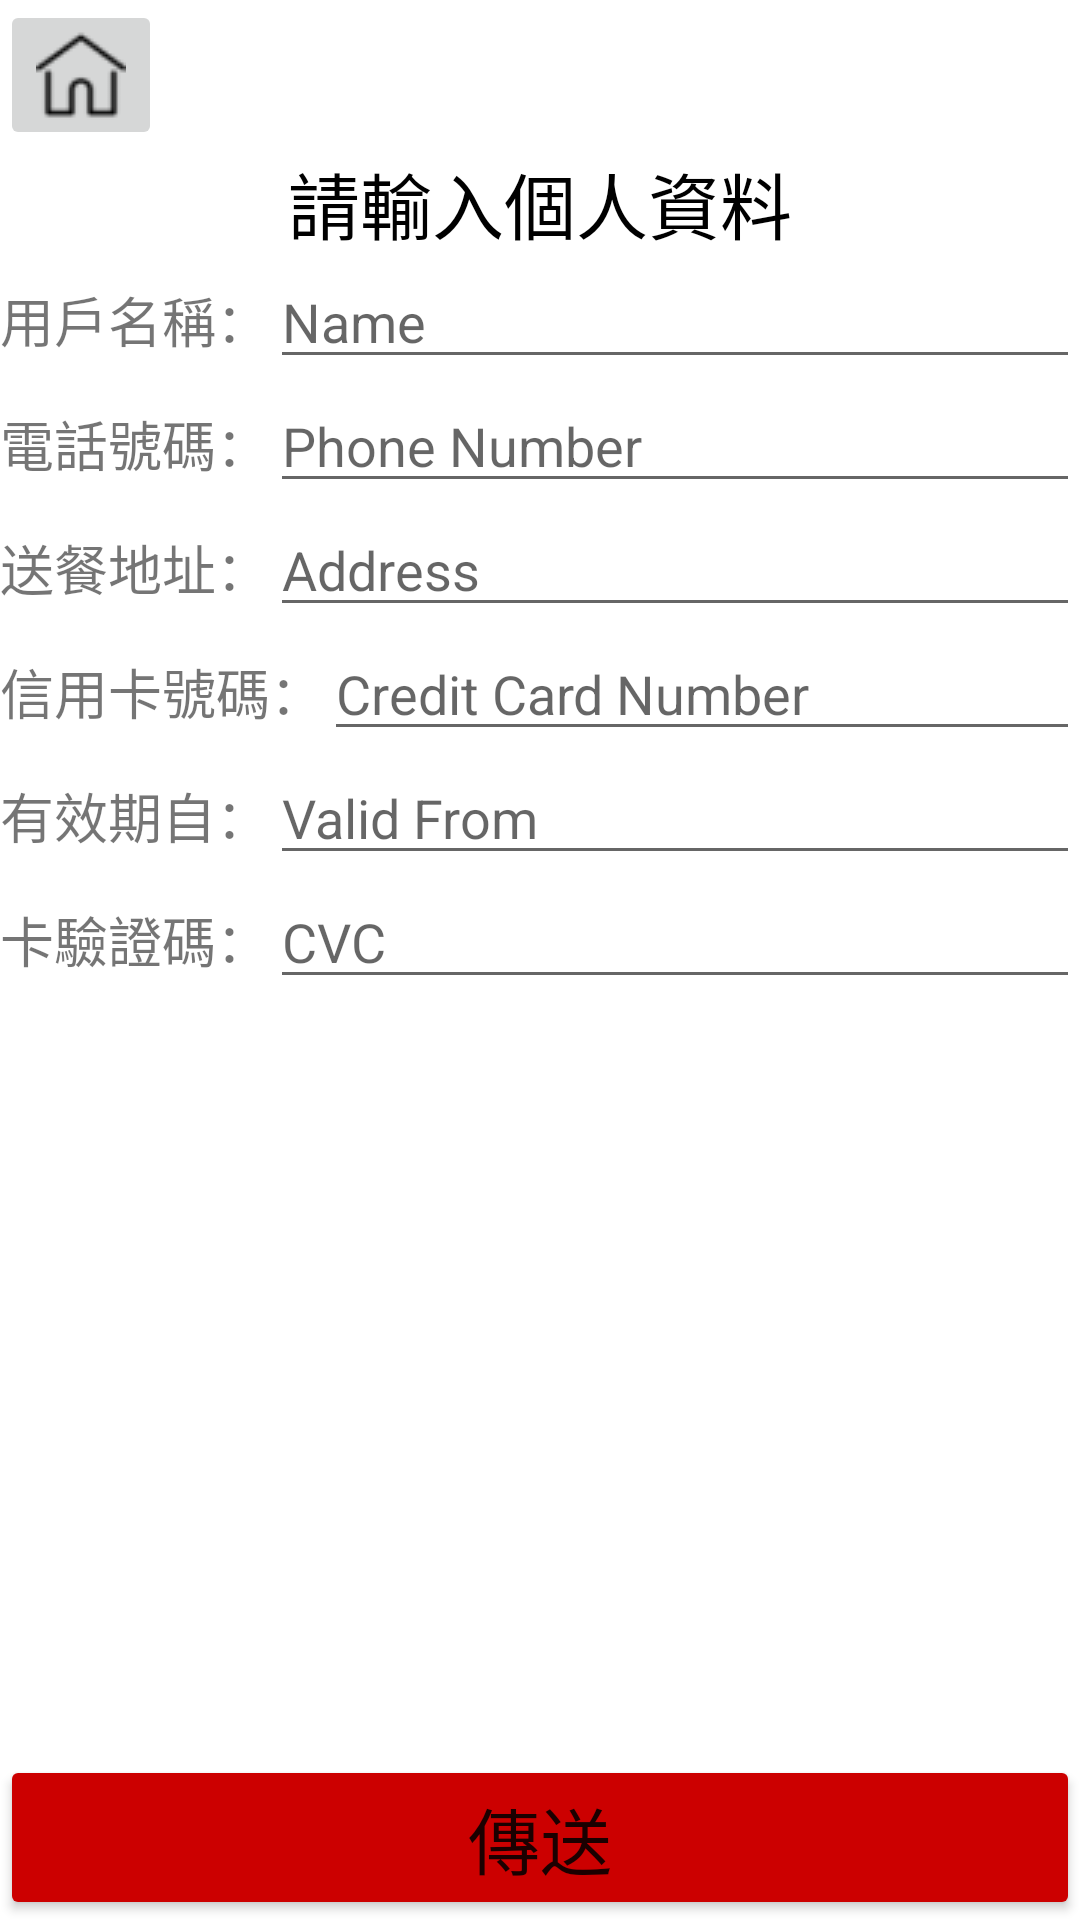

Named icons in this screenshot (1080*1920) and their bounding boxes, (x1, y1, x2, y2):
homepage: (12, 18, 150, 132)
